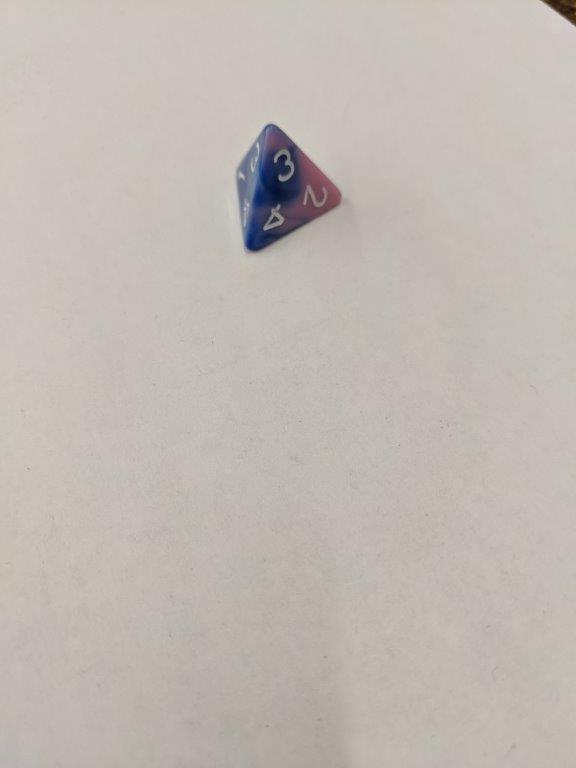d4-3: (227, 122, 347, 254)
